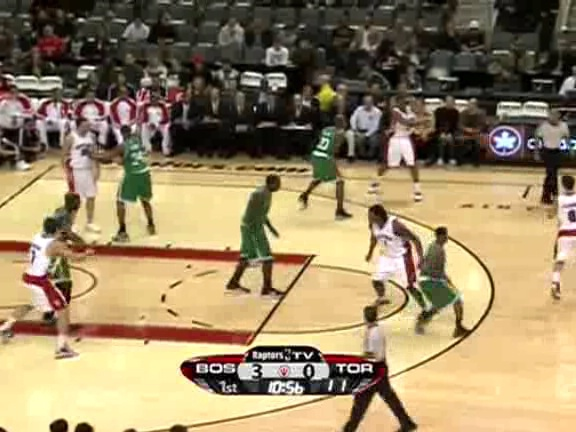person: (417, 236, 451, 317), (416, 236, 450, 317), (418, 236, 452, 317), (417, 235, 451, 316), (417, 237, 451, 318)
target_negative: (247, 18, 488, 294), (299, 185, 415, 389), (354, 240, 454, 408), (184, 197, 280, 368), (311, 369, 446, 420), (400, 156, 567, 157)
